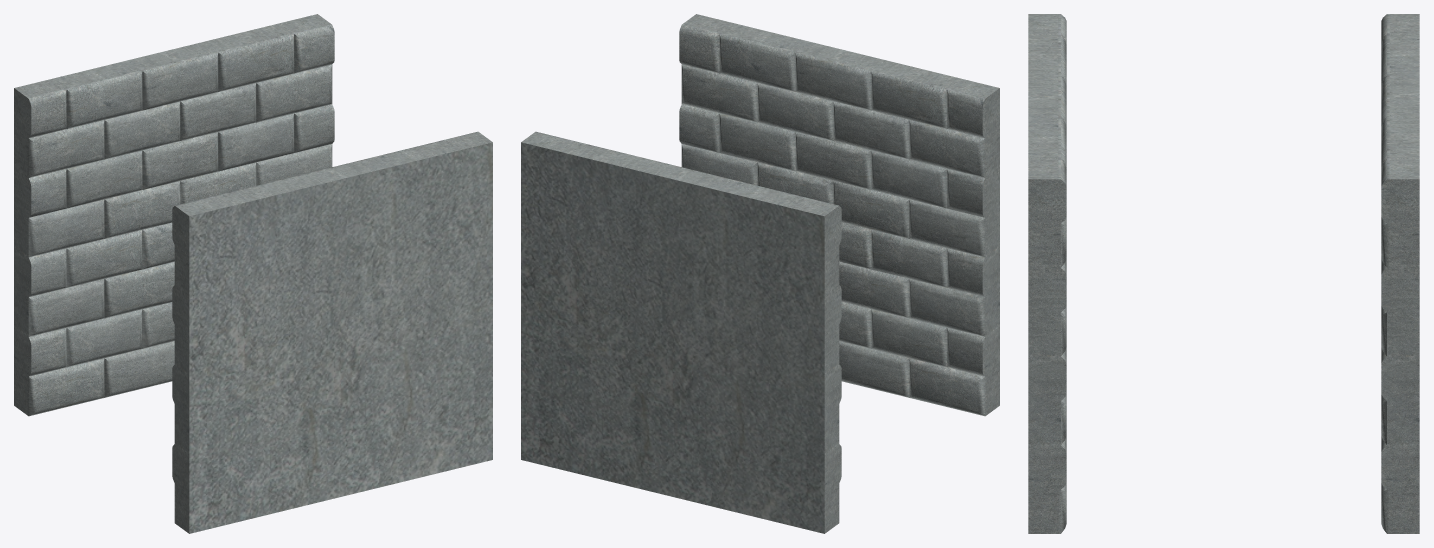
The model's file is Geomorph-StoneBrick-wall10.glb.
The picture shows the model from 3 angles, left to right: view 1: azimuth 30°, elevation 25°; view 2: azimuth 150°, elevation 25°; view 3: azimuth 270°, elevation 25°; orthographic projection. The views are drawn at different scales.
Parts seen in each view (by area): view 1: Wall; view 2: Wall; view 3: Wall.
Part boxes in pixels (<box>): Wall: <box>14,14,492,533</box>; Wall: <box>521,14,999,533</box>; Wall: <box>1028,14,1419,533</box>.
Size of the model in its own units: 3 by 3 by 3.
Materials: 1 (1 with a texture image).
